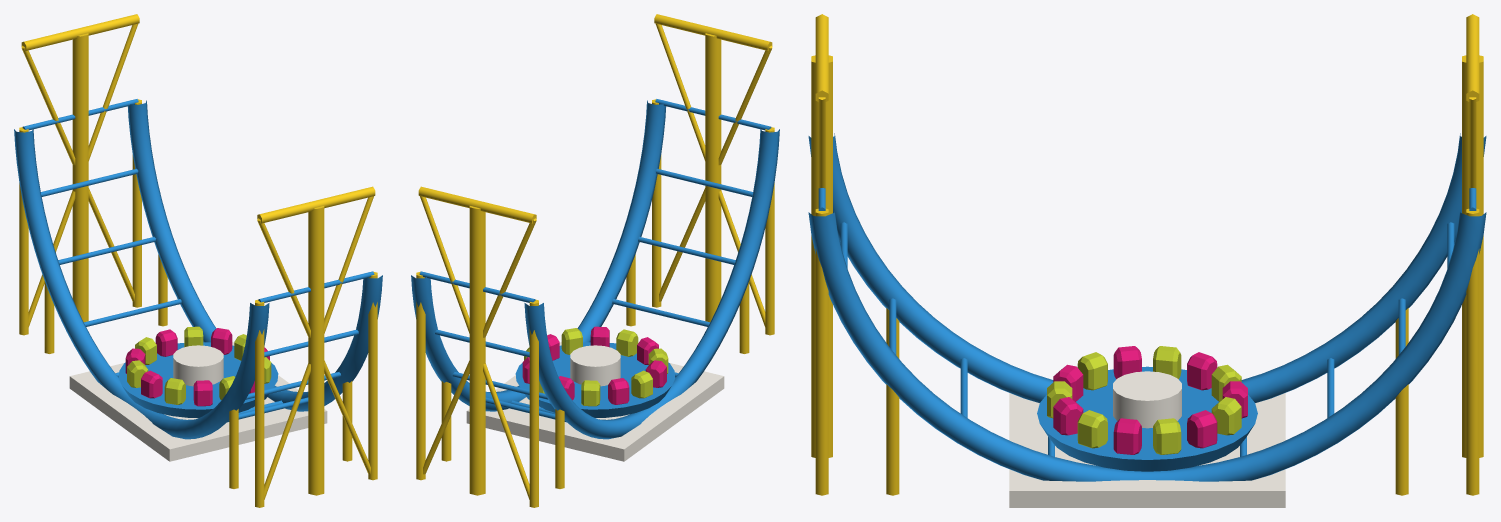
File: mega-disko.glb
The picture shows the model from 3 angles, left to right: view 1: azimuth 30°, elevation 25°; view 2: azimuth 150°, elevation 25°; view 3: azimuth 270°, elevation 25°; orthographic projection. The views are drawn at different scales.
Visible parts, largest first — view 1: disko_rail_1, disko_rail_0, disko_deck, disko_tower_1, disko_tower_0, disko_disc, disko_col_10_1, disko_disc_hub, disko_col_10_0, disko_tower_diag_b_1, disko_tower_diag_1, disko_tower_diag_b_0 (+21 smaller); view 2: disko_rail_1, disko_rail_0, disko_deck, disko_tower_0, disko_tower_1, disko_disc, disko_col_0_1, disko_disc_hub, disko_col_0_0, disko_tower_diag_b_0, disko_tower_diag_0, disko_tower_diag_b_1 (+21 smaller); view 3: disko_rail_0, disko_rail_1, disko_deck, disko_disc, disko_tower_0, disko_tower_1, disko_col_0_0, disko_col_10_0, disko_disc_hub, disko_col_2_0, disko_col_8_0, disko_tower_brace_0 (+11 smaller).
Part boxes in pixels (<box>): disko_rail_1: <box>14,128,269,439</box>; disko_rail_0: <box>127,100,382,411</box>; disko_deck: <box>69,342,327,461</box>; disko_tower_1: <box>308,206,324,495</box>; disko_tower_0: <box>72,33,88,322</box>; disko_disc: <box>118,342,278,417</box>; disko_col_10_1: <box>255,299,264,507</box>; disko_disc_hub: <box>173,345,223,386</box>; disko_col_10_0: <box>368,271,377,480</box>; disko_tower_diag_b_1: <box>264,196,373,499</box>; disko_tower_diag_1: <box>257,218,370,474</box>; disko_tower_diag_b_0: <box>28,23,138,326</box>; disko_rail_1: <box>524,128,779,439</box>; disko_rail_0: <box>411,100,666,411</box>; disko_deck: <box>466,342,724,461</box>; disko_tower_0: <box>469,206,485,495</box>; disko_tower_1: <box>705,33,721,322</box>; disko_disc: <box>515,342,675,417</box>; disko_col_0_1: <box>529,299,538,507</box>; disko_disc_hub: <box>570,345,620,386</box>; disko_col_0_0: <box>416,271,425,480</box>; disko_tower_diag_b_0: <box>420,196,529,499</box>; disko_tower_diag_0: <box>423,218,536,474</box>; disko_tower_diag_b_1: <box>655,23,765,326</box>; disko_rail_0: <box>808,209,1486,481</box>; disko_rail_1: <box>808,133,1486,402</box>; disko_deck: <box>1009,393,1285,507</box>; disko_disc: <box>1037,366,1257,471</box>; disko_tower_0: <box>1462,55,1483,457</box>; disko_tower_1: <box>811,55,832,457</box>; disko_col_0_0: <box>1466,208,1479,495</box>; disko_col_10_0: <box>815,208,828,495</box>; disko_disc_hub: <box>1113,371,1181,428</box>; disko_col_2_0: <box>1395,384,1408,495</box>; disko_col_8_0: <box>886,384,899,495</box>; disko_tower_brace_0: <box>1466,14,1479,101</box>.
Bounding box in the file's own units: 10 × 17.83 × 27.02.
